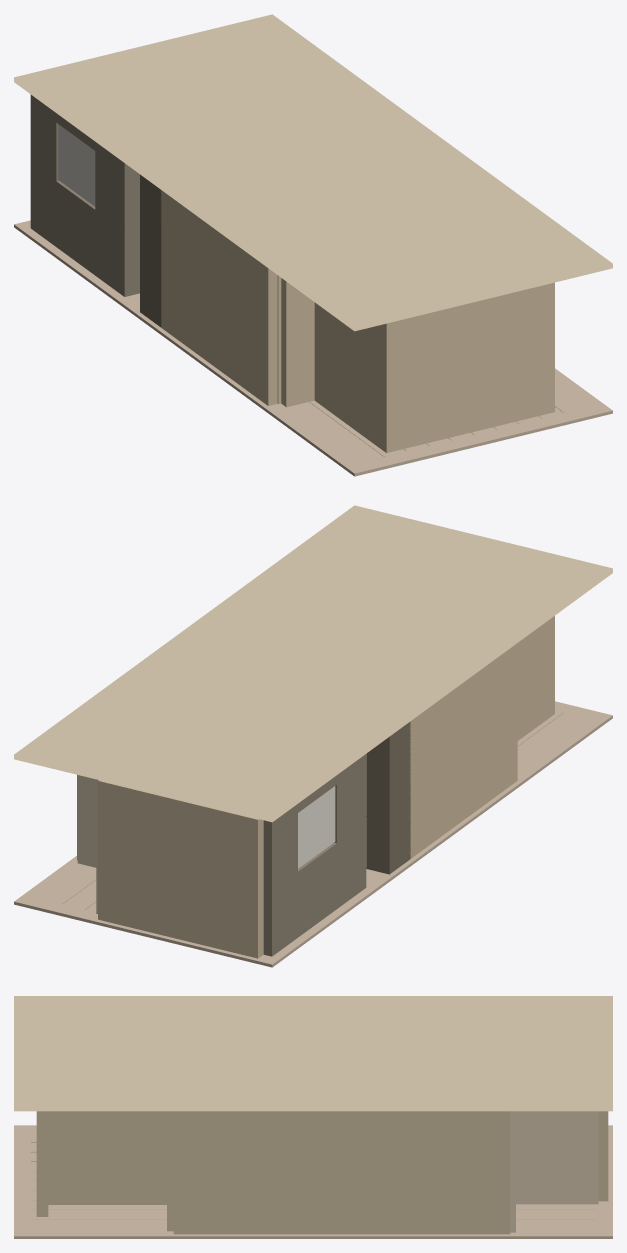
3 views of the same model, one above another, from view 1: azimuth 30°, elevation 25°; view 2: azimuth 150°, elevation 25°; view 3: azimuth 270°, elevation 25° (orthographic). The views are drawn at different scales.
Parts seen in each view (by area): view 1: Ceiling_Main, Wall_Bedroom_South, Wall_West_Living, Floor_Main, Wall_Bedroom_West, Wall_Kitchen_West_Low, Wall_South_TV_Alcove, Wall_Alcove_Back, Wall_Kitchen_West_S, Window_Kitchen_Frame, Wall_Kitchen_West_N, Wall_Bedroom_East (+1 smaller); view 2: Ceiling_Main, Wall_Kitchen_North, Wall_West_Living, Floor_Main, Wall_Kitchen_West_Low, Wall_Alcove_Back, Wall_Bedroom_West, Wall_Kitchen_West_N, Wall_Kitchen_West_S, Window_Kitchen_Frame, Wall_Dining_North; view 3: Ceiling_Main, Wall_East_Main, Floor_Main, Wall_Bedroom_East, Wall_Kitchen_East_Partition, Wall_Bedroom_South, Wall_Kitchen_North, Wall_South_Study, Wall_Dining_North.
Part boxes in pixels (x1,y1,x2,y2): Ceiling_Main: [14, 14, 612, 331]; Wall_Bedroom_South: [380, 282, 554, 452]; Wall_West_Living: [160, 190, 277, 405]; Floor_Main: [14, 220, 612, 476]; Wall_Bedroom_West: [314, 302, 397, 452]; Wall_Kitchen_West_Low: [30, 163, 139, 296]; Wall_South_TV_Alcove: [281, 278, 314, 407]; Wall_Alcove_Back: [140, 174, 161, 327]; Wall_Kitchen_West_S: [95, 142, 139, 231]; Window_Kitchen_Frame: [58, 124, 95, 206]; Wall_Kitchen_West_N: [30, 94, 58, 181]; Wall_Bedroom_East: [515, 289, 526, 421]; Ceiling_Main: [14, 505, 612, 822]; Wall_Kitchen_North: [98, 780, 263, 958]; Wall_West_Living: [409, 643, 517, 858]; Floor_Main: [14, 701, 612, 967]; Wall_Kitchen_West_Low: [263, 822, 366, 956]; Wall_Alcove_Back: [366, 722, 408, 874]; Wall_Bedroom_West: [517, 616, 554, 740]; Wall_Kitchen_West_N: [263, 804, 297, 890]; Wall_Kitchen_West_S: [334, 754, 366, 843]; Window_Kitchen_Frame: [298, 786, 335, 868]; Wall_Dining_North: [77, 775, 96, 867]; Ceiling_Main: [14, 996, 612, 1111]; Wall_East_Main: [173, 1111, 510, 1234]; Floor_Main: [14, 1125, 612, 1238]; Wall_Bedroom_East: [48, 1111, 166, 1204]; Wall_Kitchen_East_Partition: [516, 1111, 598, 1204]; Wall_Bedroom_South: [36, 1111, 48, 1216]; Wall_Kitchen_North: [598, 1111, 608, 1201]; Wall_South_Study: [167, 1111, 173, 1231]; Wall_Dining_North: [510, 1111, 515, 1232].
Size of the model in its own units: 4.6 by 2.55 by 10.5.
